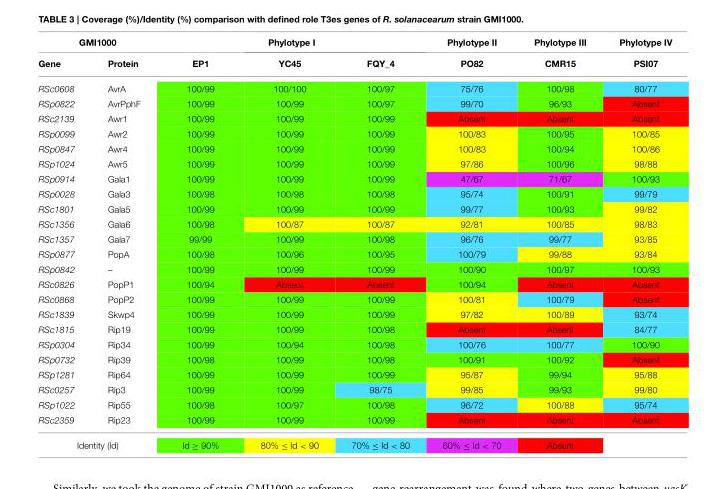table: (37, 37, 671, 449)
table column: (239, 37, 334, 449), (334, 37, 425, 449), (425, 37, 516, 449), (516, 37, 602, 449), (160, 37, 239, 449), (90, 37, 160, 449), (602, 37, 671, 449), (37, 37, 90, 449)
table column header: (37, 37, 671, 76)
table row: (37, 52, 671, 76), (37, 76, 671, 96), (37, 412, 671, 432), (37, 432, 671, 449), (37, 306, 671, 322), (37, 37, 671, 52), (37, 96, 671, 111), (37, 111, 671, 126), (37, 126, 671, 141), (37, 141, 671, 156), (37, 156, 671, 171), (37, 171, 671, 186), (37, 186, 671, 201), (37, 201, 671, 216), (37, 216, 671, 231), (37, 231, 671, 246), (37, 246, 671, 261), (37, 261, 671, 276), (37, 276, 671, 291), (37, 291, 671, 306), (37, 322, 671, 337), (37, 337, 671, 352), (37, 352, 671, 367), (37, 367, 671, 382), (37, 382, 671, 397), (37, 397, 671, 412)
table spanning cell: (160, 37, 425, 52), (425, 37, 516, 76), (516, 37, 602, 76), (602, 37, 671, 76), (37, 432, 160, 449), (37, 37, 160, 52)
